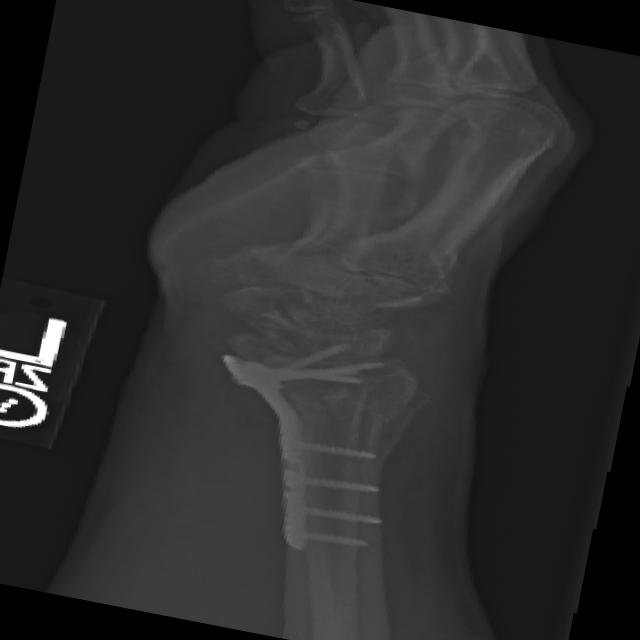wrist positive: (197, 323, 453, 441)
